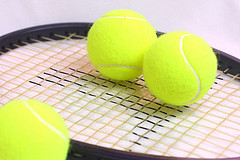tennis ball: (141, 29, 217, 107), (85, 7, 158, 82), (1, 97, 72, 160)
